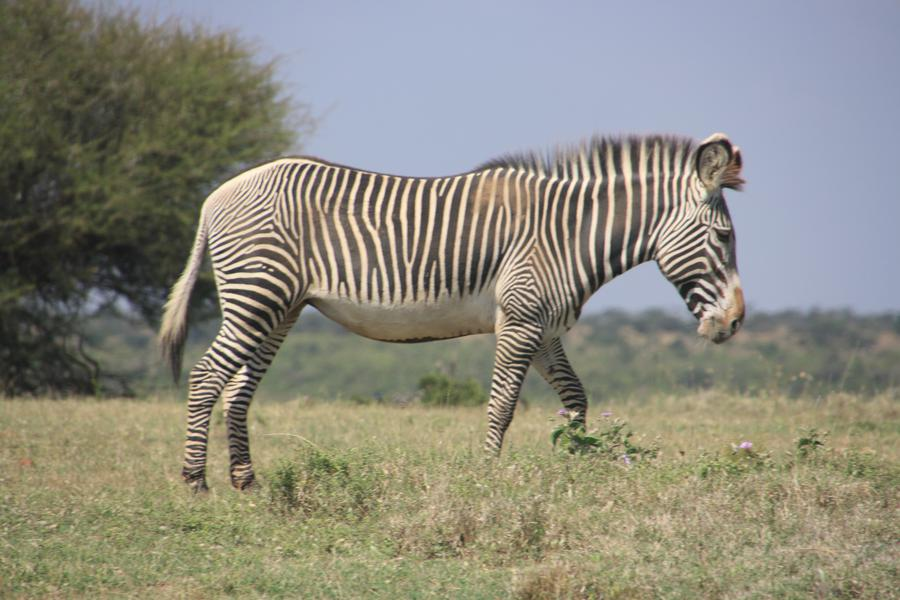zebra_grevys: (197, 146, 561, 333)
